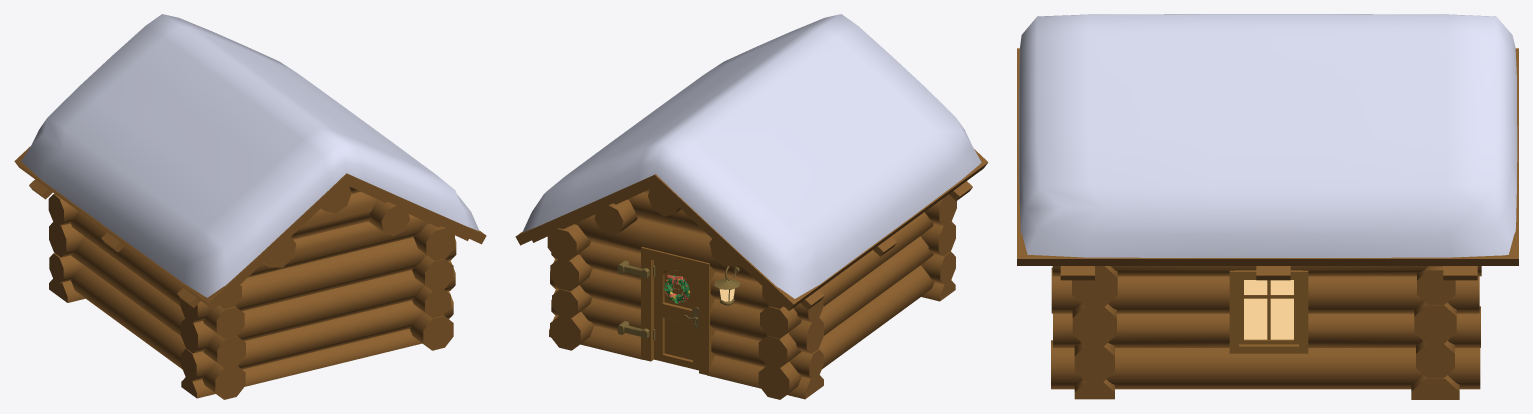
Rendered from sample_house.gltf.
The picture shows the model from 3 angles, left to right: view 1: azimuth 30°, elevation 25°; view 2: azimuth 150°, elevation 25°; view 3: azimuth 270°, elevation 25°; orthographic projection. The views are drawn at different scales.
Parts seen in each view (by area): view 1: snow_roof, House; view 2: snow_roof, House, Door, Lamp, garland; view 3: snow_roof, House.
Boxes of the visible parts, box(x1,y1,x2,y2) form: snow_roof: box(21, 14, 479, 297); House: box(14, 146, 486, 399); snow_roof: box(522, 14, 981, 298); House: box(515, 149, 988, 399); Door: box(653, 260, 698, 370); Lamp: box(714, 266, 739, 305); garland: box(664, 274, 689, 303); snow_roof: box(1019, 14, 1517, 257); House: box(1017, 48, 1518, 399).
Bounding box in the file's own units: 6.02 × 4.84 × 7.21.
